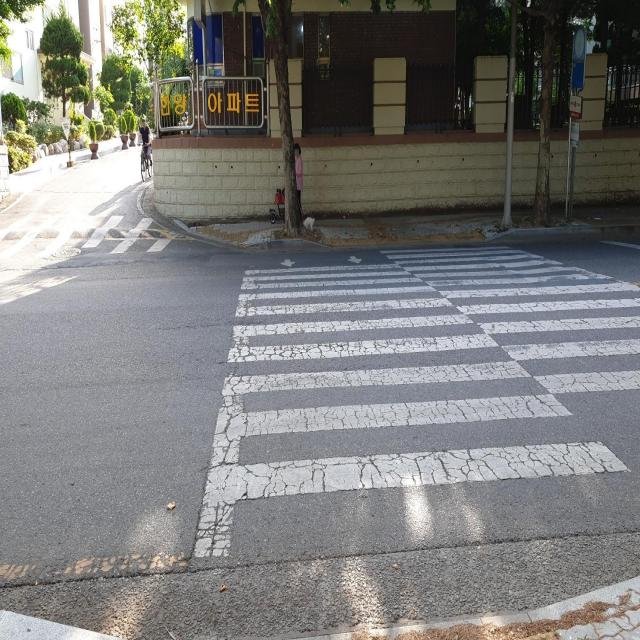횡단보도: (190, 241, 640, 565), (0, 212, 187, 268)
